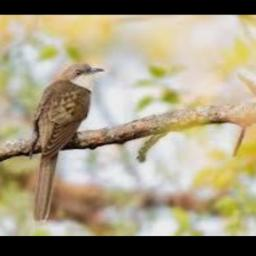Cuckoo: (31, 63, 106, 225)
